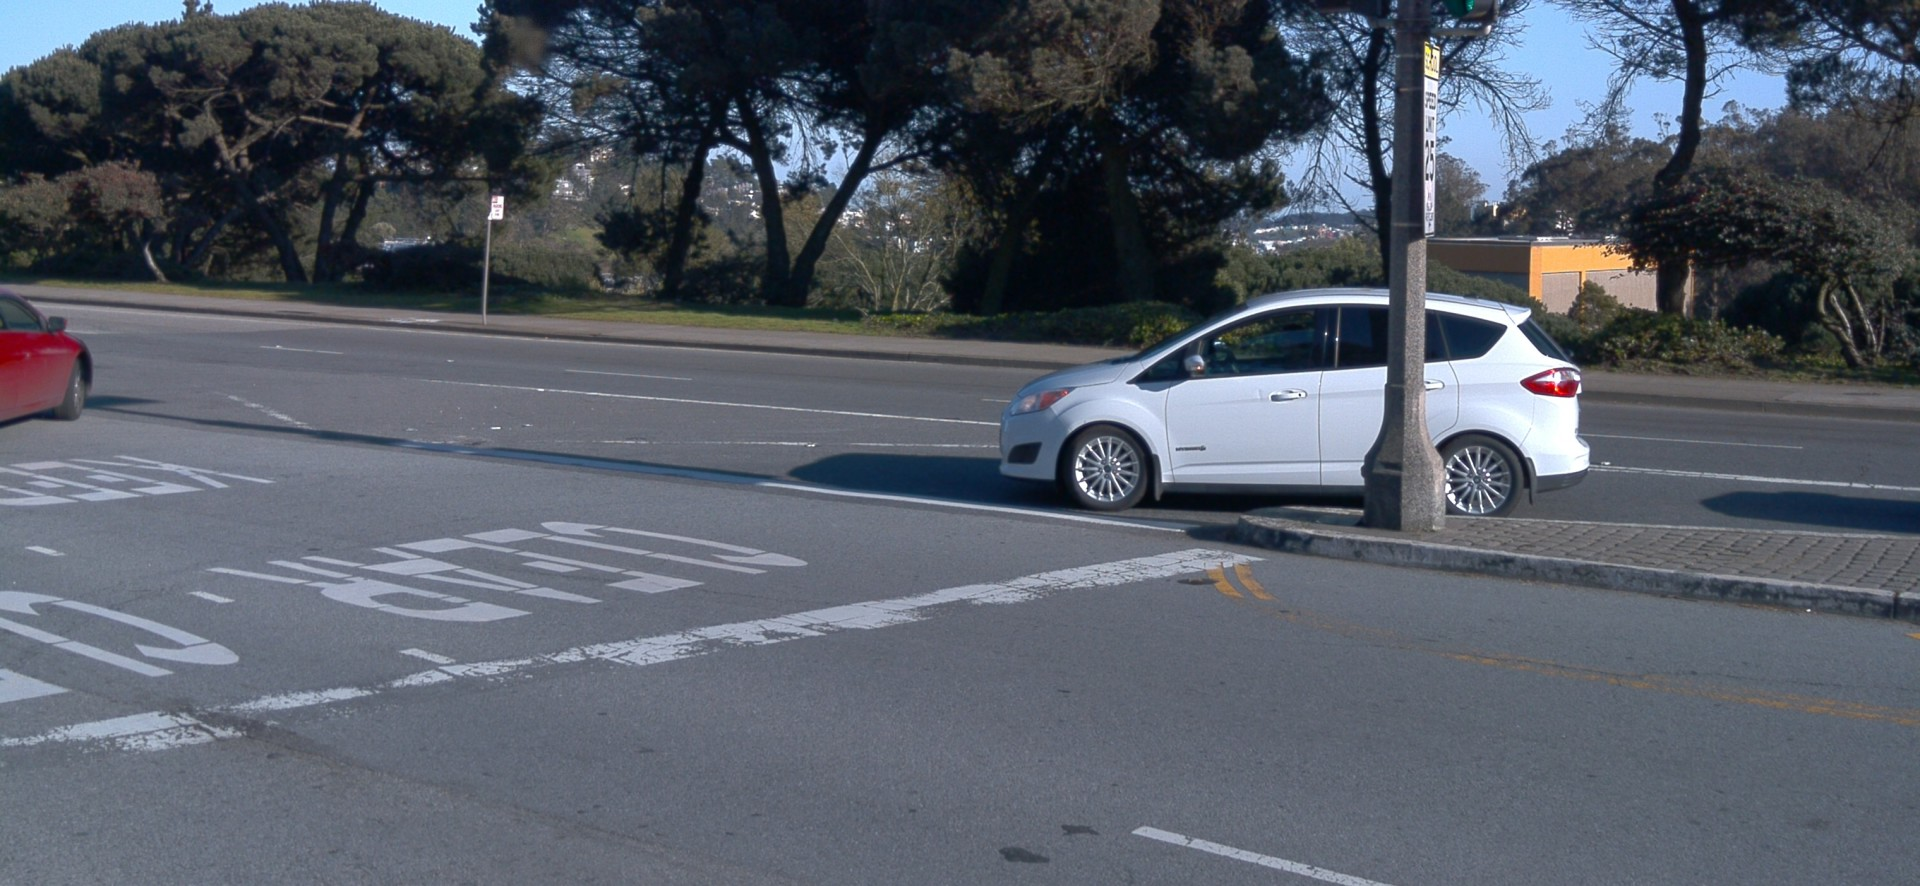TYPE_VEHICLE: (996, 286, 1592, 521), (996, 286, 1592, 521), (996, 286, 1592, 521), (996, 286, 1592, 521), (0, 288, 94, 423), (0, 288, 94, 423), (0, 288, 94, 423), (0, 288, 94, 423)
